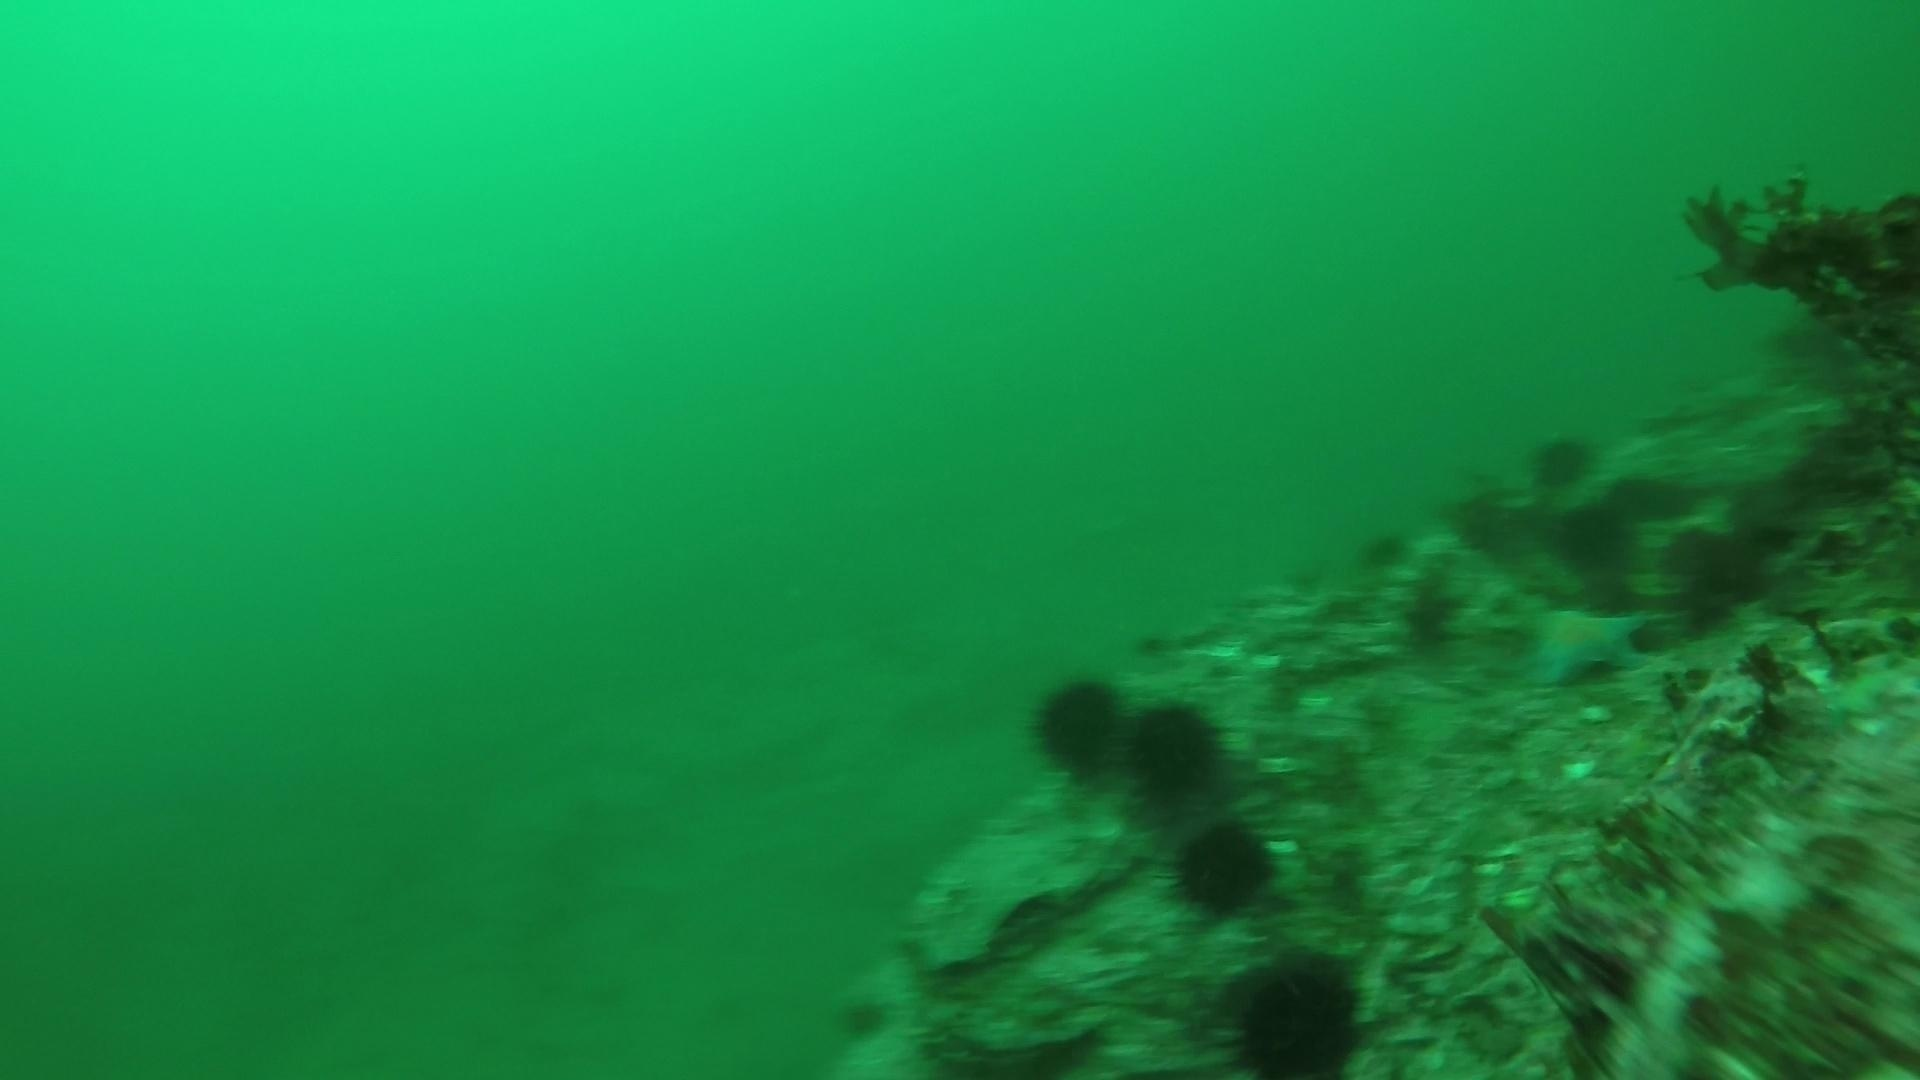echinus: (1215, 948, 1373, 1076), (1163, 815, 1280, 920), (1124, 695, 1232, 804), (1025, 670, 1127, 778), (1443, 480, 1528, 560), (1549, 497, 1638, 574), (1524, 427, 1601, 493)
starfish: (1513, 599, 1658, 692)
